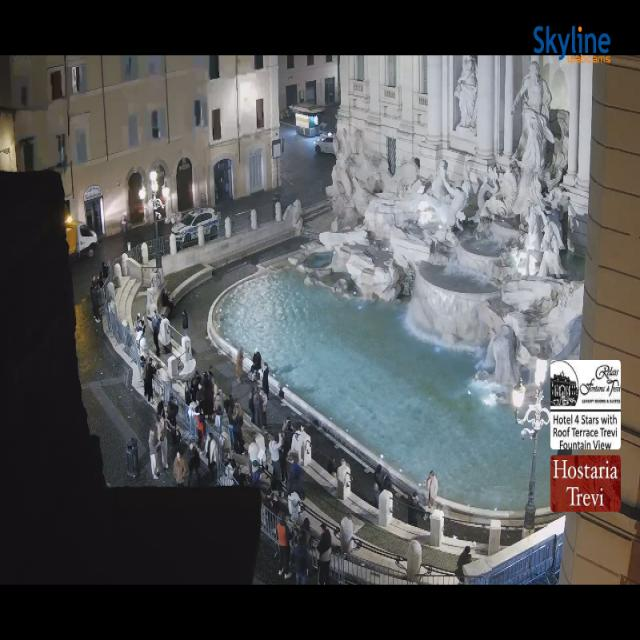person: (236, 452, 275, 496), (284, 495, 315, 550), (256, 433, 274, 490), (292, 531, 310, 584), (276, 516, 291, 578), (317, 523, 331, 584), (286, 455, 305, 499), (288, 495, 303, 547), (327, 457, 350, 490), (269, 433, 282, 490), (184, 370, 202, 408), (205, 369, 218, 421), (204, 369, 218, 415), (156, 416, 168, 469), (208, 432, 223, 474), (455, 546, 472, 583), (221, 452, 240, 485), (232, 403, 244, 454), (407, 491, 424, 527), (425, 471, 438, 517), (336, 458, 351, 497), (287, 451, 301, 492), (224, 400, 235, 452), (166, 396, 178, 443), (201, 375, 213, 421), (148, 429, 159, 479), (264, 432, 282, 462), (144, 358, 156, 403), (408, 491, 423, 527), (235, 402, 245, 454), (280, 420, 288, 485), (168, 396, 179, 443), (149, 199, 171, 222), (144, 198, 165, 222), (104, 283, 118, 319), (425, 470, 438, 508), (375, 465, 393, 492), (204, 432, 215, 476), (188, 443, 199, 487), (148, 199, 169, 222), (148, 199, 168, 222), (230, 460, 247, 487), (228, 397, 243, 427), (174, 452, 187, 486), (186, 370, 199, 404), (216, 409, 229, 443), (252, 388, 263, 428), (216, 172, 231, 201), (215, 172, 230, 201), (196, 373, 208, 409), (204, 375, 214, 418), (167, 393, 179, 428), (100, 263, 117, 287), (283, 419, 294, 456), (374, 464, 383, 508), (380, 469, 395, 495), (250, 350, 262, 382), (264, 492, 280, 516), (214, 405, 227, 434), (152, 310, 160, 357), (148, 309, 163, 334), (284, 419, 295, 452), (192, 379, 203, 412), (91, 282, 100, 322), (235, 465, 251, 487), (185, 371, 196, 403), (261, 490, 277, 512), (301, 518, 312, 550), (288, 492, 300, 521), (135, 313, 145, 347), (215, 386, 228, 412), (255, 364, 268, 389), (280, 449, 288, 489), (197, 409, 205, 449), (234, 466, 249, 487), (292, 423, 305, 447), (191, 370, 201, 401), (213, 388, 224, 416), (235, 348, 244, 382), (259, 390, 267, 428), (161, 325, 171, 355), (208, 365, 218, 395), (162, 289, 174, 314), (225, 457, 237, 482), (225, 393, 235, 422), (250, 349, 262, 373), (269, 473, 282, 495), (140, 352, 151, 378), (140, 350, 151, 375), (188, 398, 199, 422), (261, 490, 273, 512), (105, 295, 116, 318), (196, 373, 204, 404), (248, 388, 255, 423), (262, 363, 269, 398), (374, 464, 383, 491), (205, 366, 216, 388), (215, 175, 224, 201), (196, 384, 204, 412), (137, 315, 151, 331), (97, 275, 103, 311), (252, 460, 260, 487), (100, 262, 110, 283), (383, 471, 393, 492), (195, 370, 207, 387), (157, 393, 165, 418), (224, 395, 232, 419), (135, 313, 145, 332), (252, 350, 261, 371), (184, 382, 192, 405), (96, 270, 105, 290), (97, 269, 105, 289), (99, 269, 107, 289), (182, 310, 188, 336), (249, 370, 260, 384), (328, 457, 336, 476), (203, 371, 211, 390), (256, 368, 263, 388), (223, 397, 230, 416), (121, 215, 127, 237), (283, 418, 293, 431), (192, 369, 201, 383), (256, 370, 262, 390), (248, 365, 255, 382), (102, 262, 109, 279), (97, 271, 103, 290), (196, 370, 202, 388), (159, 310, 168, 322), (339, 458, 348, 470), (91, 276, 99, 289), (92, 276, 99, 290), (556, 449, 572, 455), (160, 311, 167, 322), (279, 385, 284, 399), (91, 276, 96, 289)
